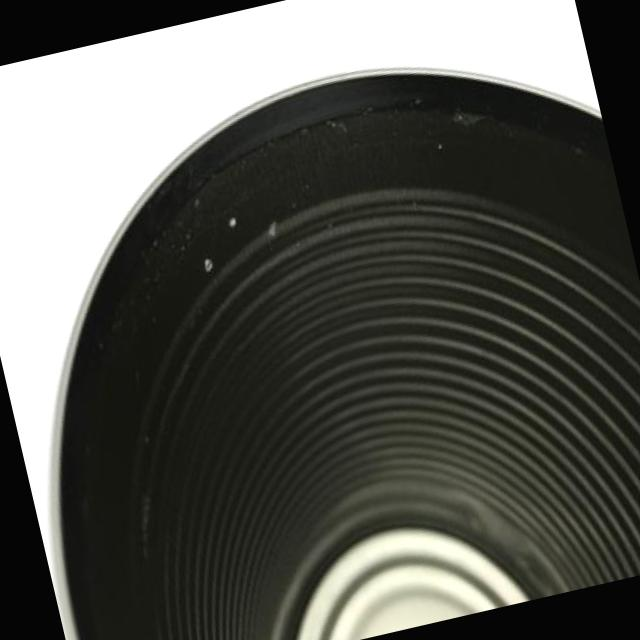metal: (299, 528, 527, 639)
